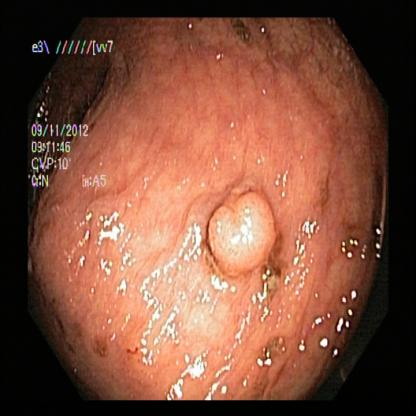Labels: (27, 38, 113, 188)
Polyps: (209, 196, 284, 277)
